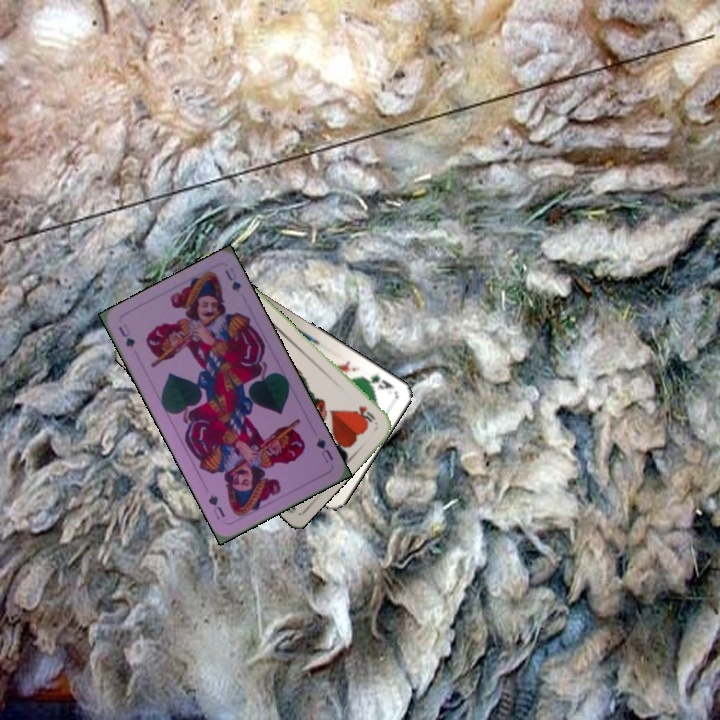GK: (359, 370, 396, 392)
GU: (312, 434, 336, 465), (114, 320, 138, 351)
HO: (352, 402, 378, 425)
